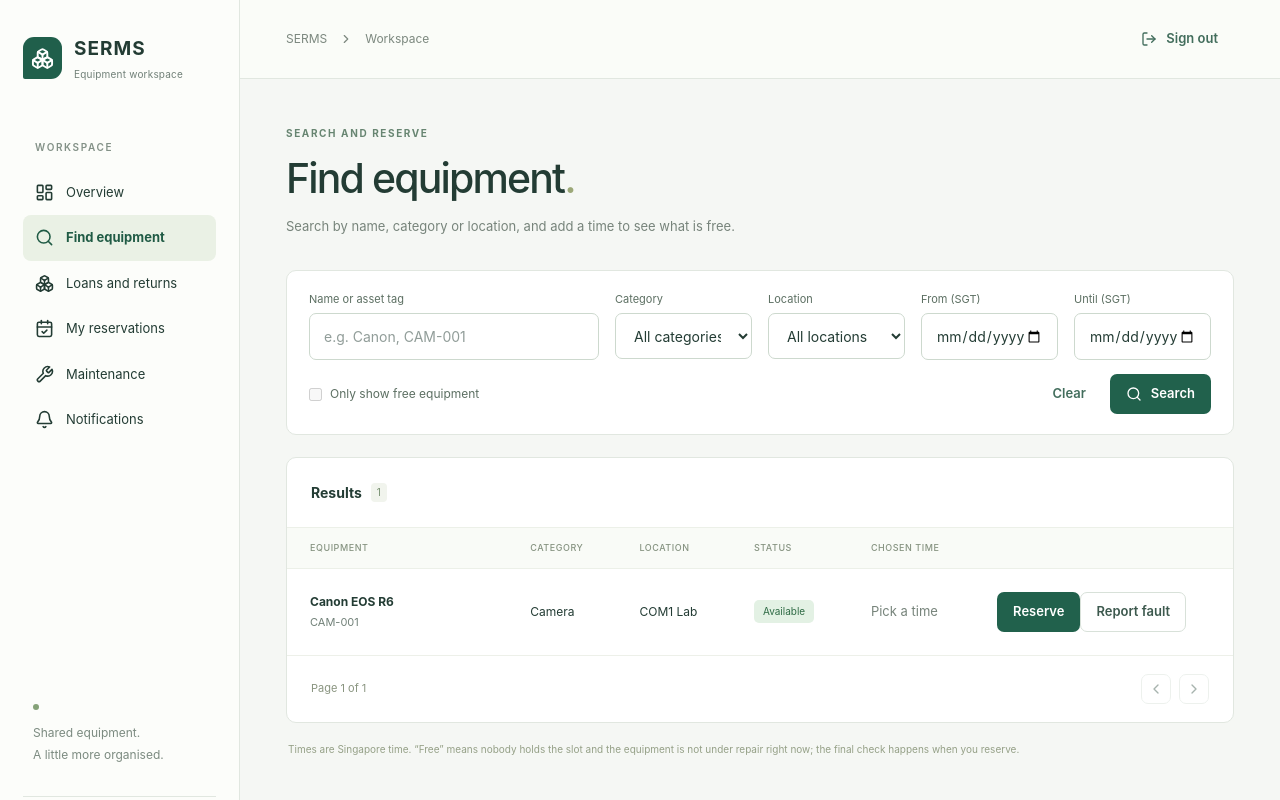
Test: equipment search (UC01) › sends filters as UTC, keeps them in the URL and shows window availability
The image size is (1280, 800).
Expected: the text "Canon EOS R6" is shown, [310,594,394,609]
In the field labelled "Name or asset tag": (454, 336) [309,313,599,360], type "canon"
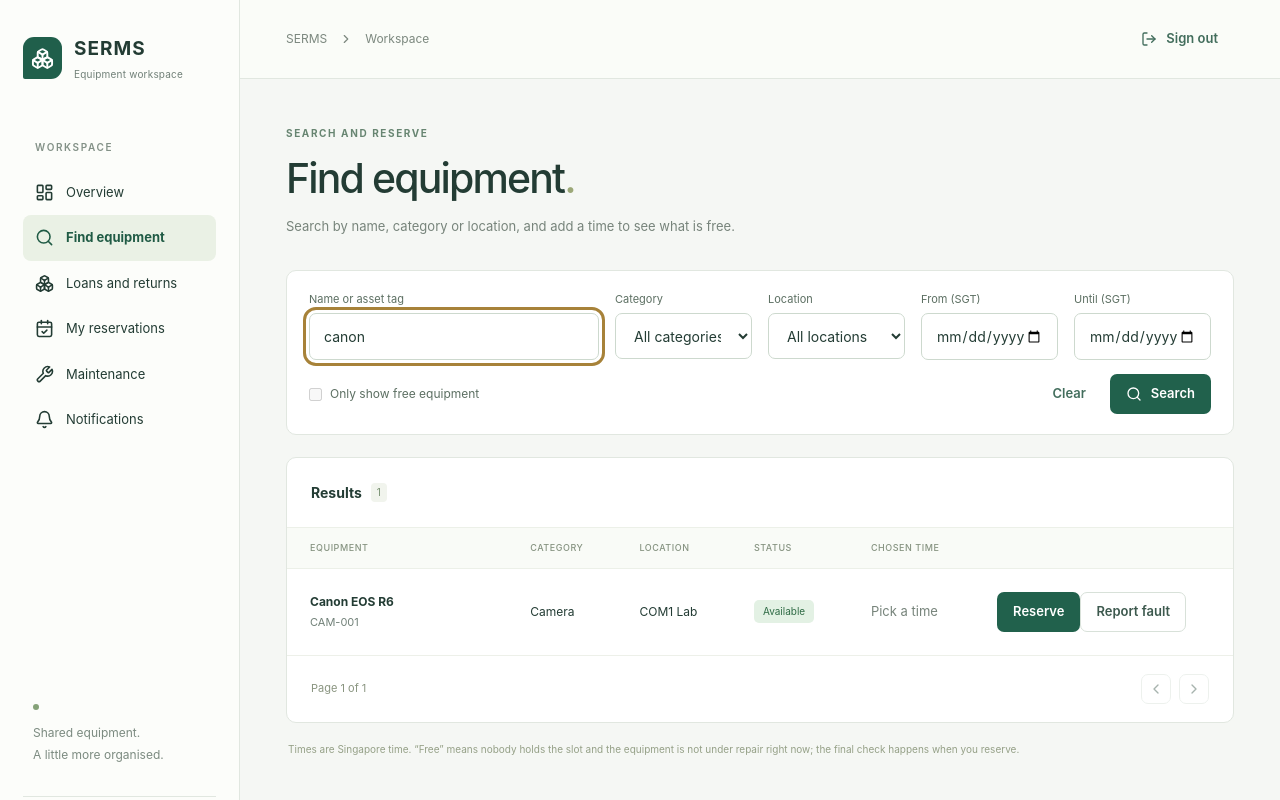
Select "Camera" in the dropdown labelled "Category": (684, 336) [615,313,752,359]
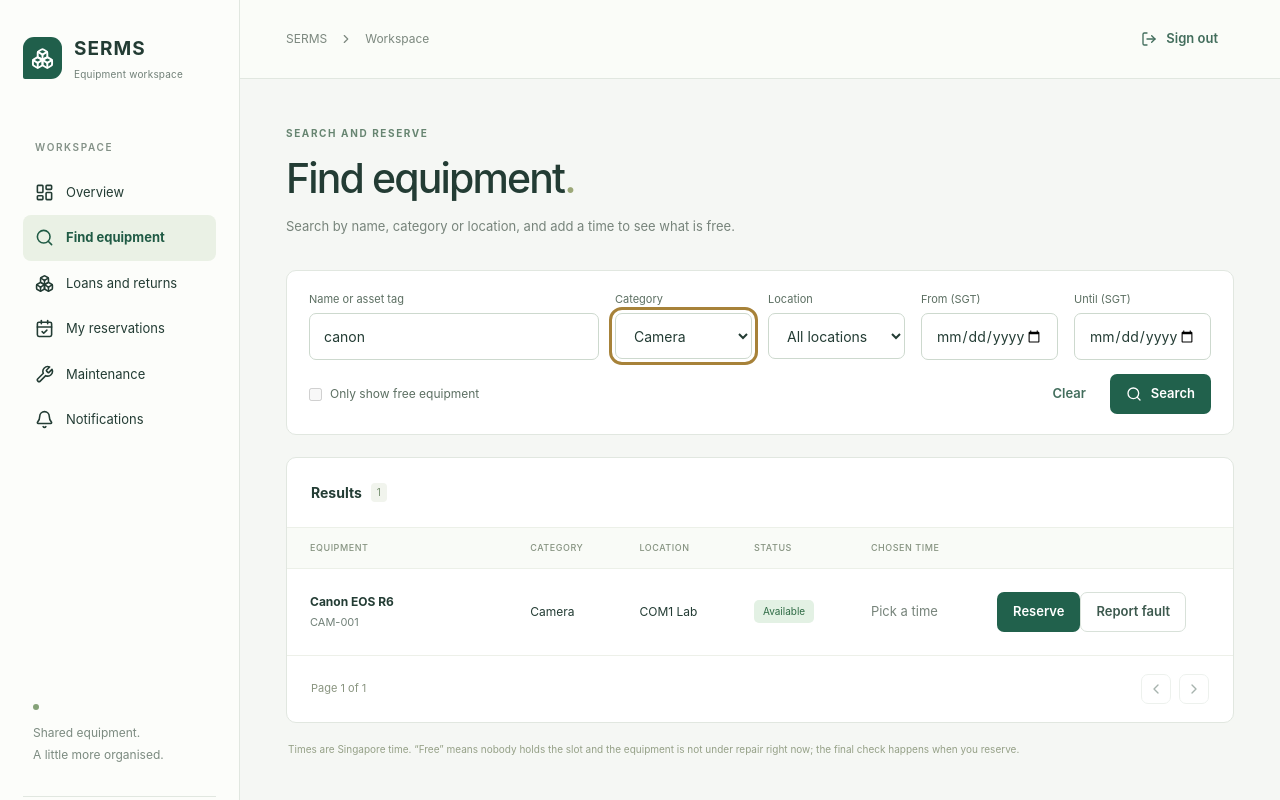
In the field labelled "From (SGT)": (990, 336) [921,313,1058,360], type "2030-01-10T09:00"
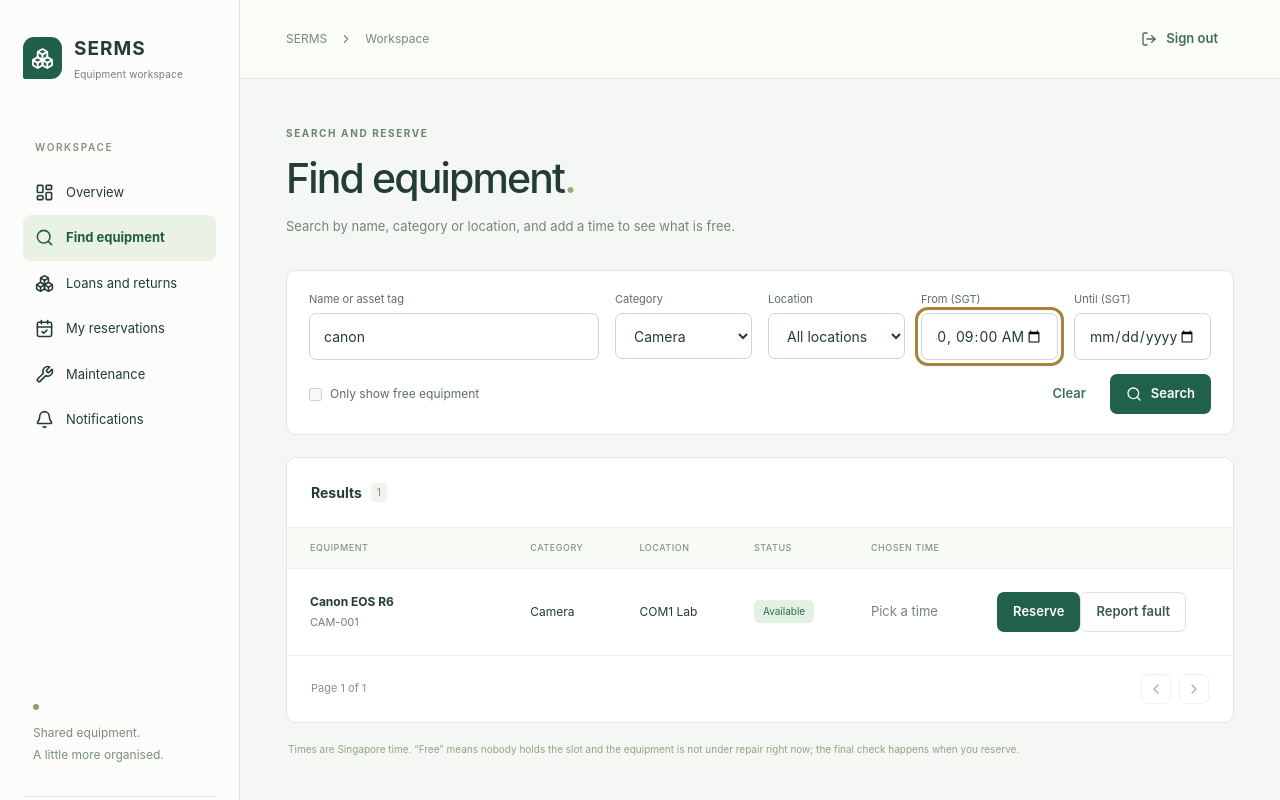
In the field labelled "Until (SGT)": (1142, 336) [1074,313,1211,360], type "2030-01-10T11:00"
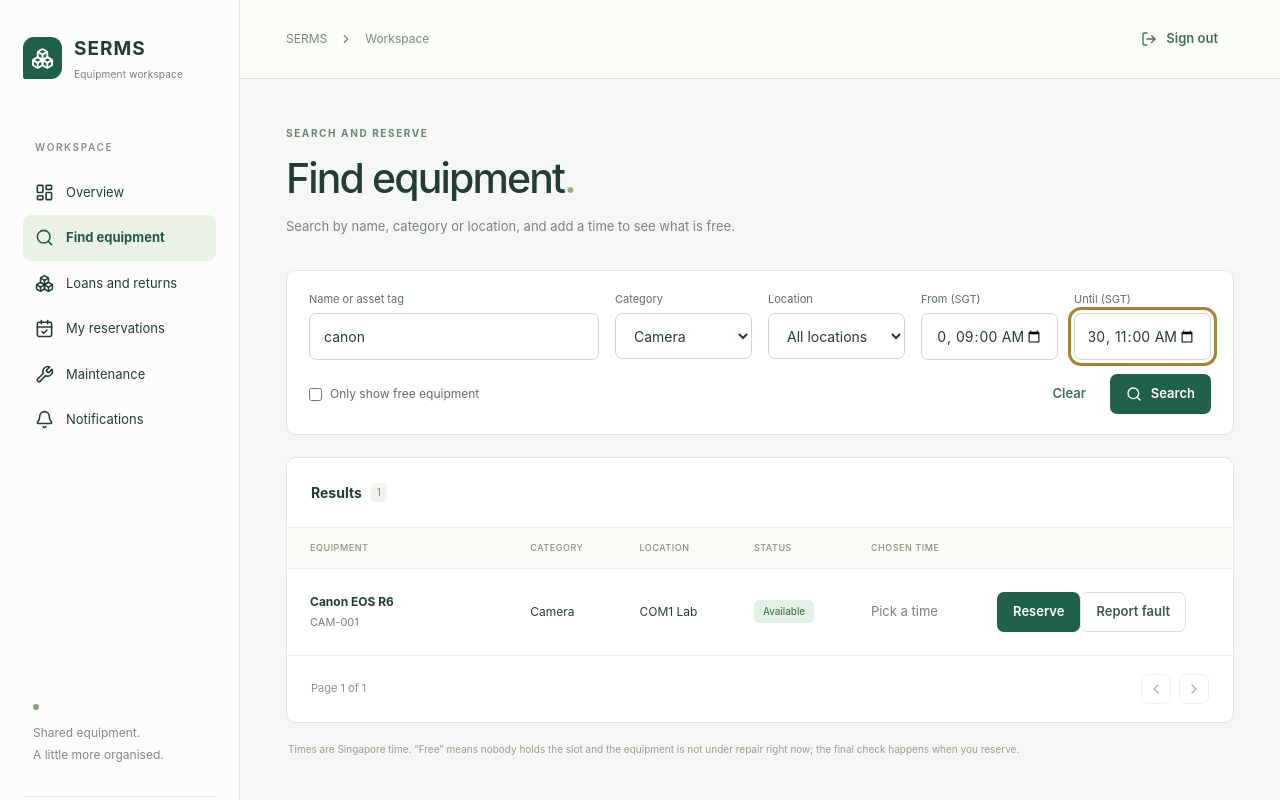
Click the button "Search": click(1160, 394) [1110,374,1211,414]
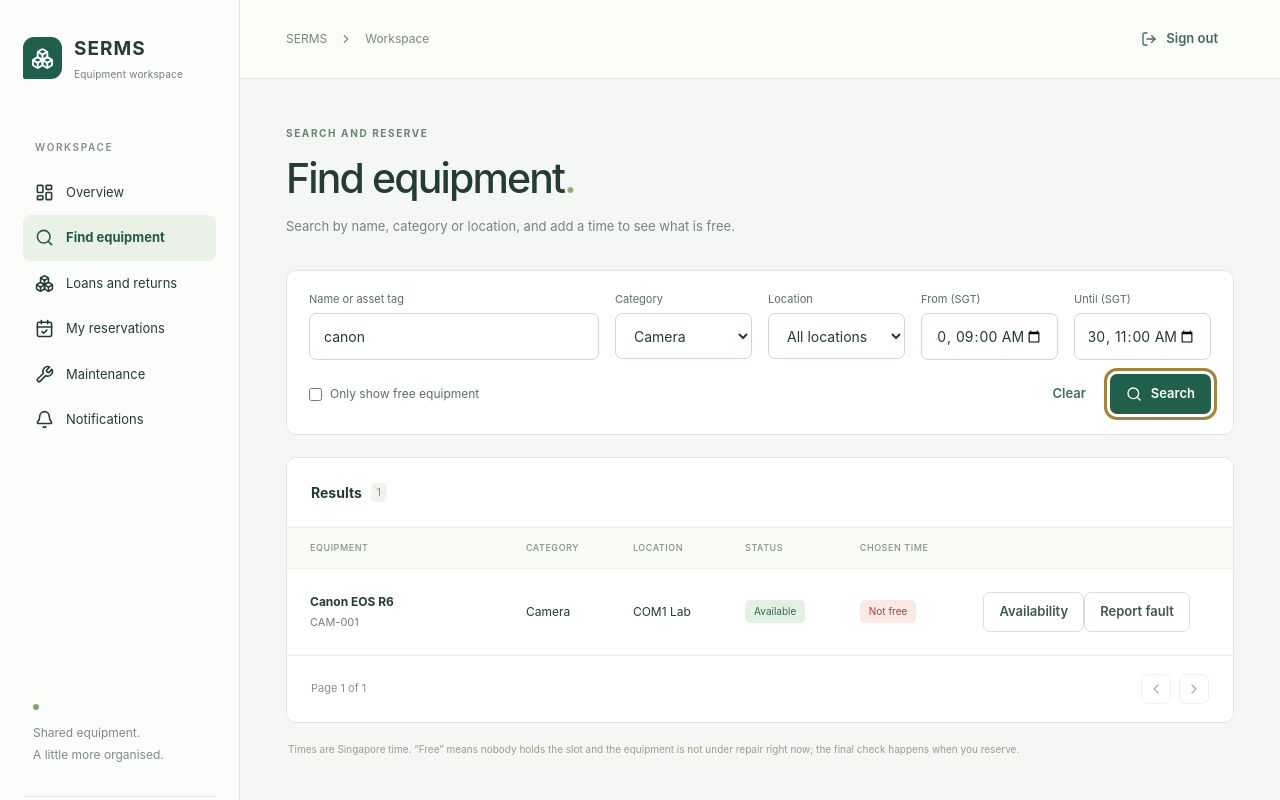
Expected: the text "Not free" is shown, [860,600,916,623]
